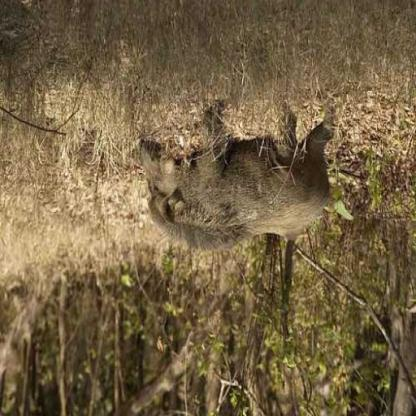boar: (122, 83, 372, 273)
